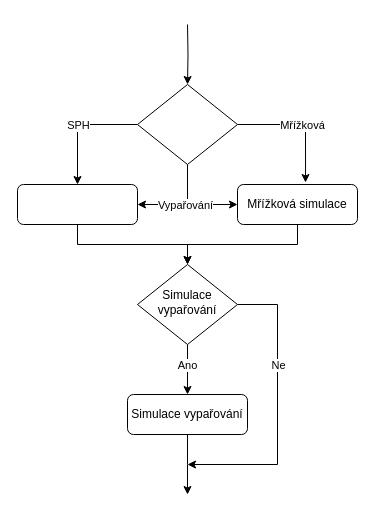
Image size: 375x520. Some labels were removed from this diagram. Each missing label, with the centre of its shape:
SPH simulace: point 77,204
Typ simulace: point 187,124
